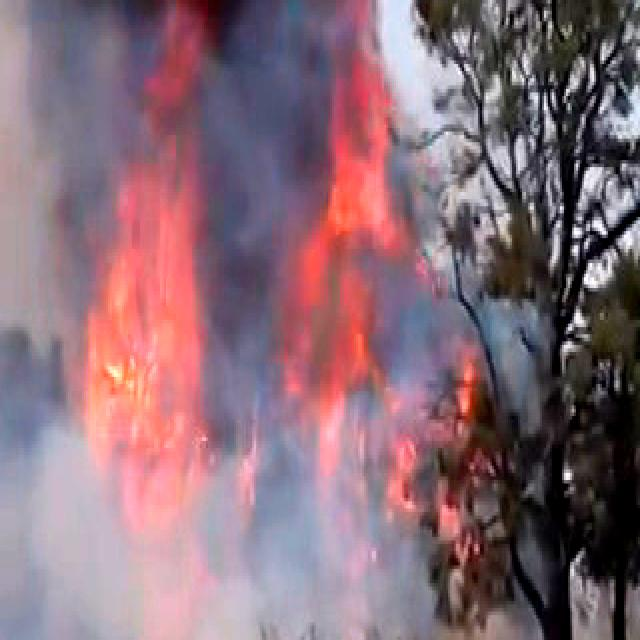fire: (38, 0, 196, 626), (245, 28, 424, 522)
